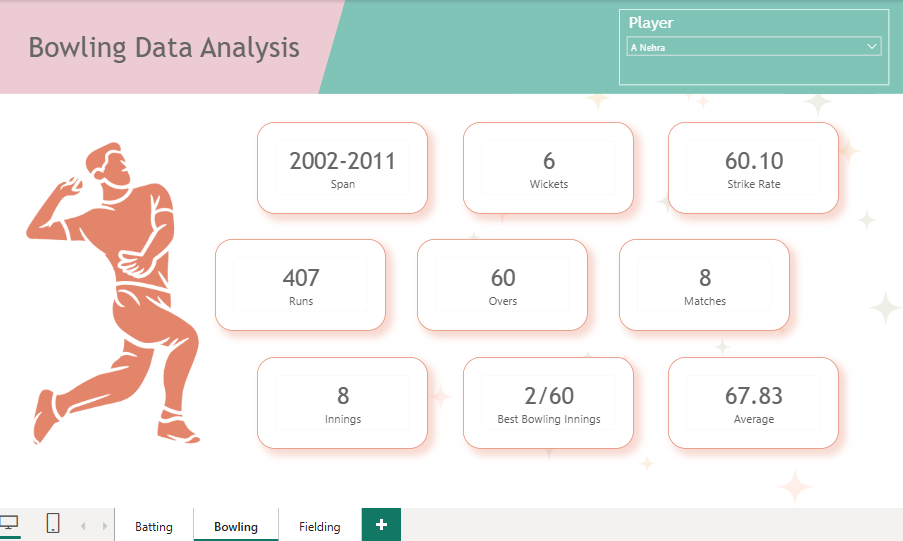

What the dashboard file says about the page in this screenshot:
{"tool":"powerbi","page":{"name":"Bowling","canvas":[1280,720],"ordinal":1},"visuals":[{"type":"shape","box":[0,0,727.1,133.2],"z":0},{"type":"shape","box":[450.7,0,829.1,133.2],"z":1000},{"type":"shape","box":[1111.2,0,168.7,133.2],"z":2000},{"type":"slicer","fields":{"Values":["bowlling.Player"]},"box":[877.3,12.8,382.7,107.7],"z":3000},{"type":"cardVisual","fields":{"Data":["Min(bowlling.Span)"]},"box":[364.3,172.9,242.4,130.4],"z":4000},{"type":"cardVisual","fields":{"Data":["Sum(bowlling.WktsDescending)"]},"box":[655.5,172.9,242.4,130.4],"z":5000},{"type":"cardVisual","fields":{"Data":["Sum(bowlling.Overs)"]},"box":[591,338.7,242.4,130.4],"z":6000},{"type":"cardVisual","fields":{"Data":["Sum(bowlling.Ave)"]},"box":[946.8,506,242.4,130.4],"z":7000},{"type":"cardVisual","fields":{"Data":["Sum(bowlling.Mat)"]},"box":[877.3,338.7,242.4,130.4],"z":8000},{"type":"cardVisual","fields":{"Data":["Sum(bowlling.SR)"]},"box":[946.8,172.9,242.4,130.4],"z":9000},{"type":"cardVisual","fields":{"Data":["Sum(bowlling.Runs)"]},"box":[304.7,338.7,242.4,130.4],"z":10000},{"type":"cardVisual","fields":{"Data":["Sum(bowlling.Inns)"]},"box":[364.3,506,242.4,130.4],"z":11000},{"type":"cardVisual","fields":{"Data":["Min(bowlling.BBI)"]},"box":[655.5,506,242.4,130.4],"z":12000}]}

Visuals, with their boxes on the page's 1280x720 design canvas (x1, y1, x2, y2). These are canvas units, not pixel positions in the 903x541 screenshot, which may show the page scaled, cropped or inside an application window:
shape: (left=0, top=0, right=727, bottom=133)
shape: (left=451, top=0, right=1280, bottom=133)
shape: (left=1111, top=0, right=1280, bottom=133)
slicer - bowlling.Player: (left=877, top=13, right=1260, bottom=120)
cardVisual - Min(bowlling.Span): (left=364, top=173, right=607, bottom=303)
cardVisual - Sum(bowlling.WktsDescending): (left=656, top=173, right=898, bottom=303)
cardVisual - Sum(bowlling.Overs): (left=591, top=339, right=833, bottom=469)
cardVisual - Sum(bowlling.Ave): (left=947, top=506, right=1189, bottom=636)
cardVisual - Sum(bowlling.Mat): (left=877, top=339, right=1120, bottom=469)
cardVisual - Sum(bowlling.SR): (left=947, top=173, right=1189, bottom=303)
cardVisual - Sum(bowlling.Runs): (left=305, top=339, right=547, bottom=469)
cardVisual - Sum(bowlling.Inns): (left=364, top=506, right=607, bottom=636)
cardVisual - Min(bowlling.BBI): (left=656, top=506, right=898, bottom=636)
